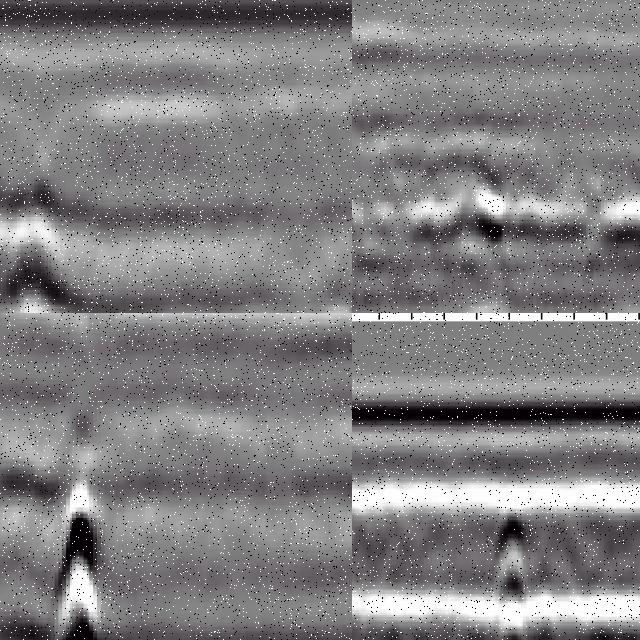crack: (55, 314, 99, 640), (480, 492, 535, 640)
loose: (413, 150, 640, 314), (1, 171, 96, 314)
